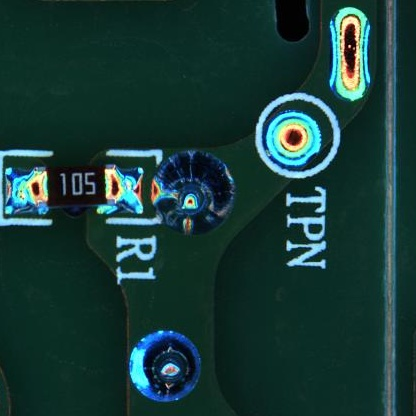spot: (150, 147, 236, 236), (126, 328, 203, 403), (328, 6, 372, 102), (266, 110, 322, 168)
